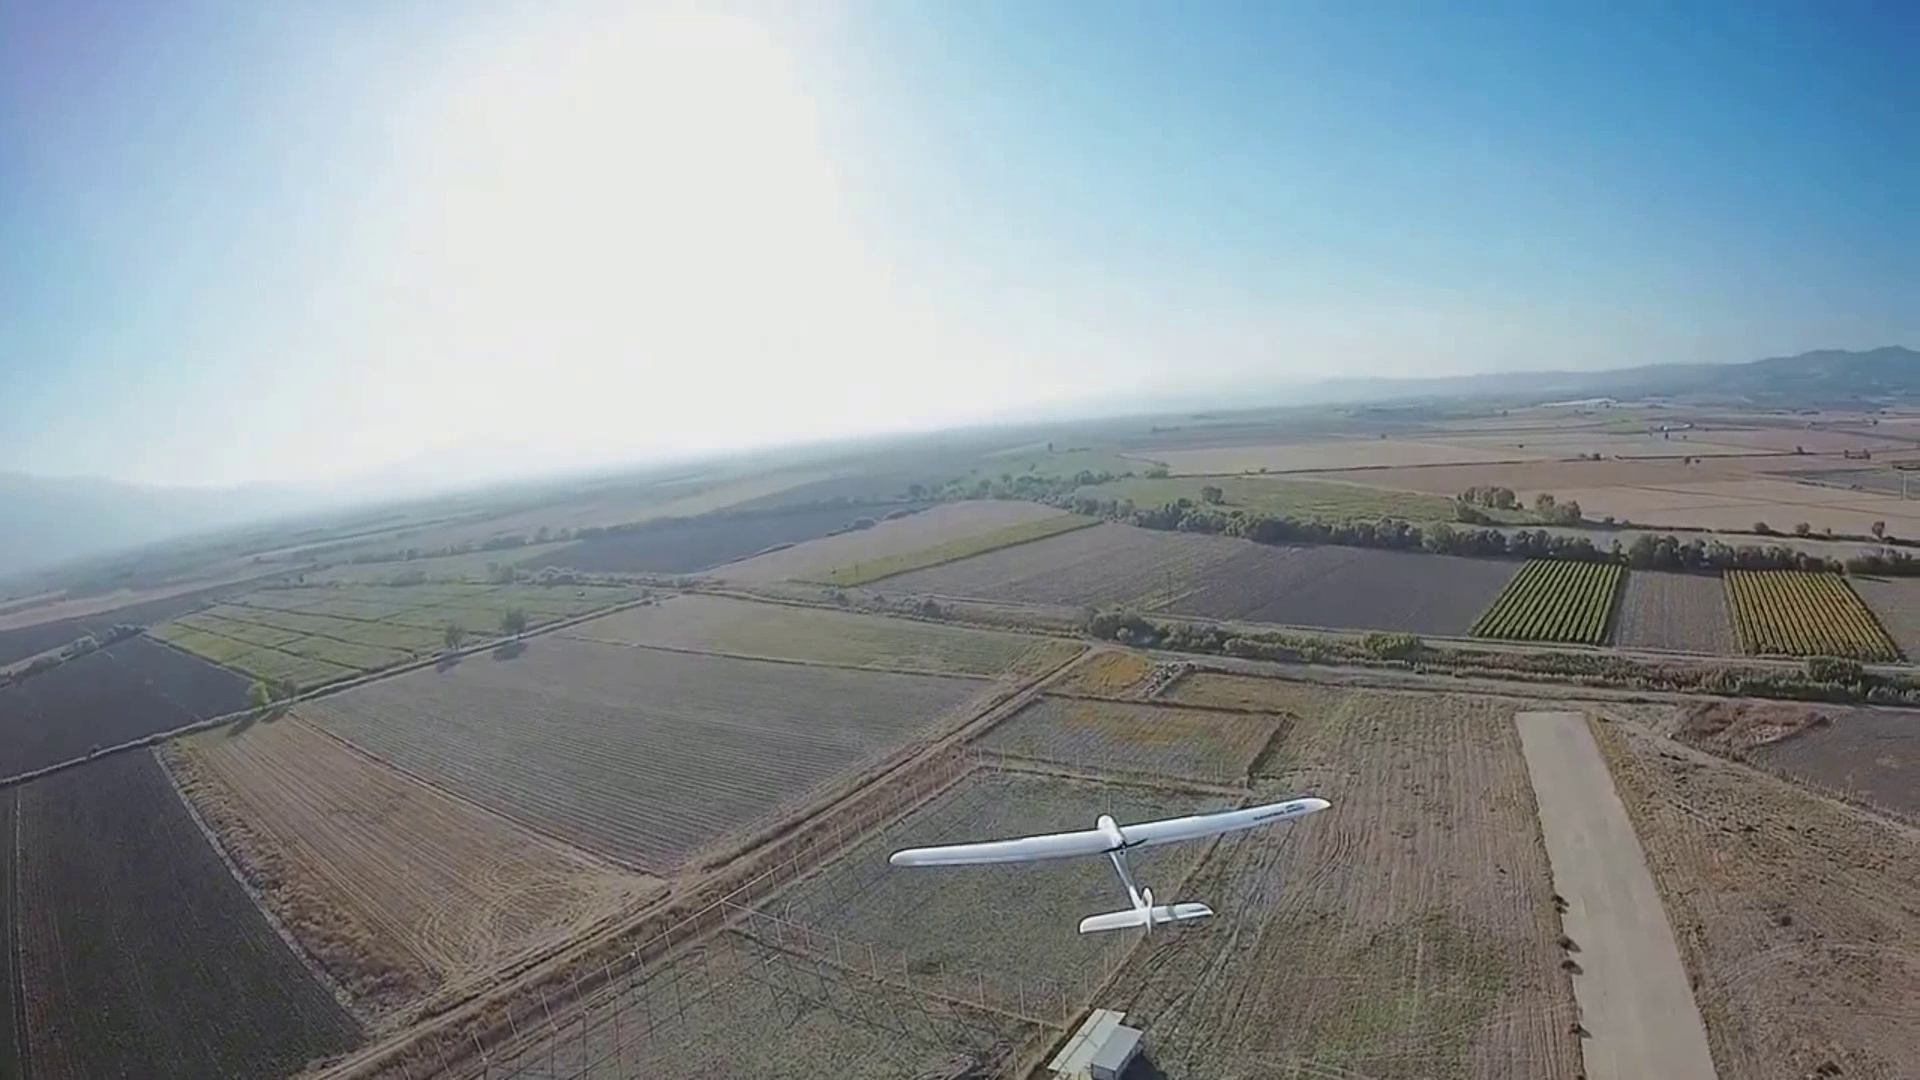airplane: (885, 793, 1331, 935)
